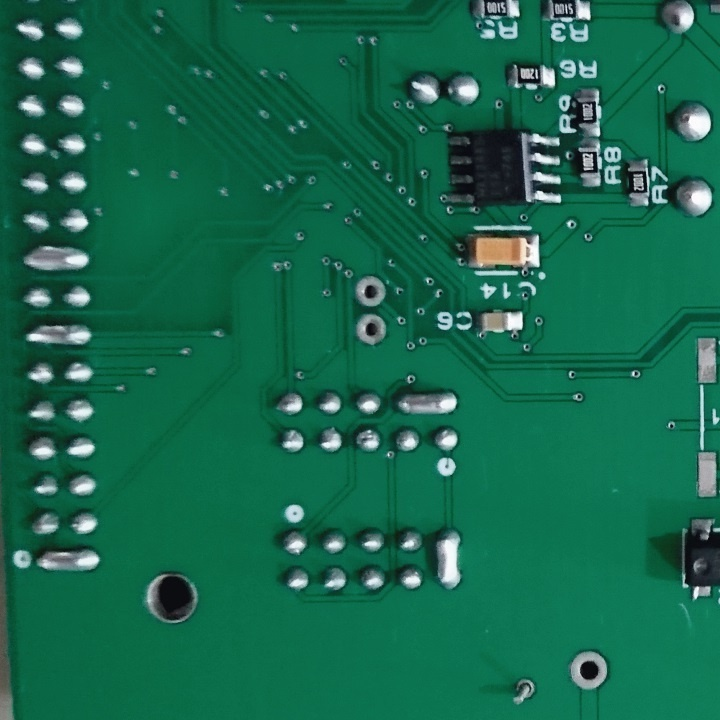F: (567, 649, 612, 693), (353, 272, 386, 312), (356, 312, 387, 349), (510, 675, 536, 709)
P: (32, 547, 105, 577), (22, 243, 95, 273), (432, 526, 464, 591), (24, 323, 94, 350), (393, 389, 461, 415)
